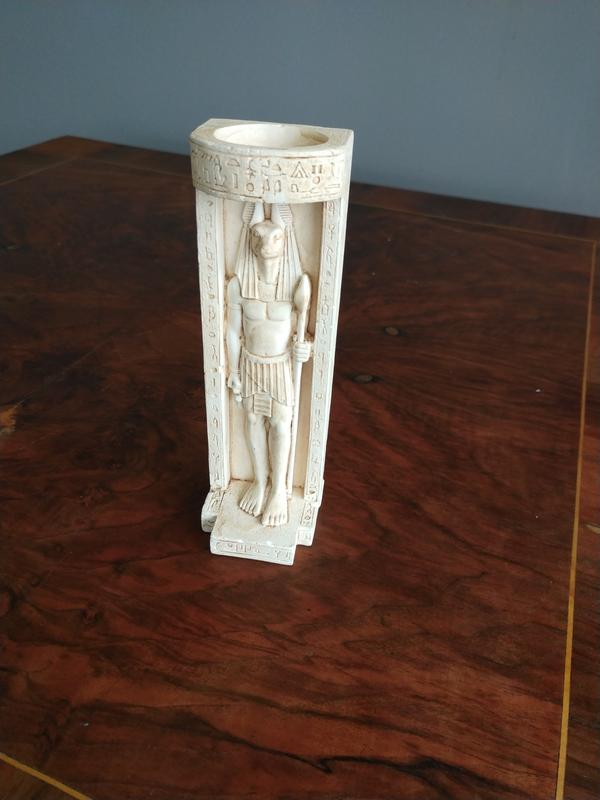heykel: (182, 109, 364, 574)
